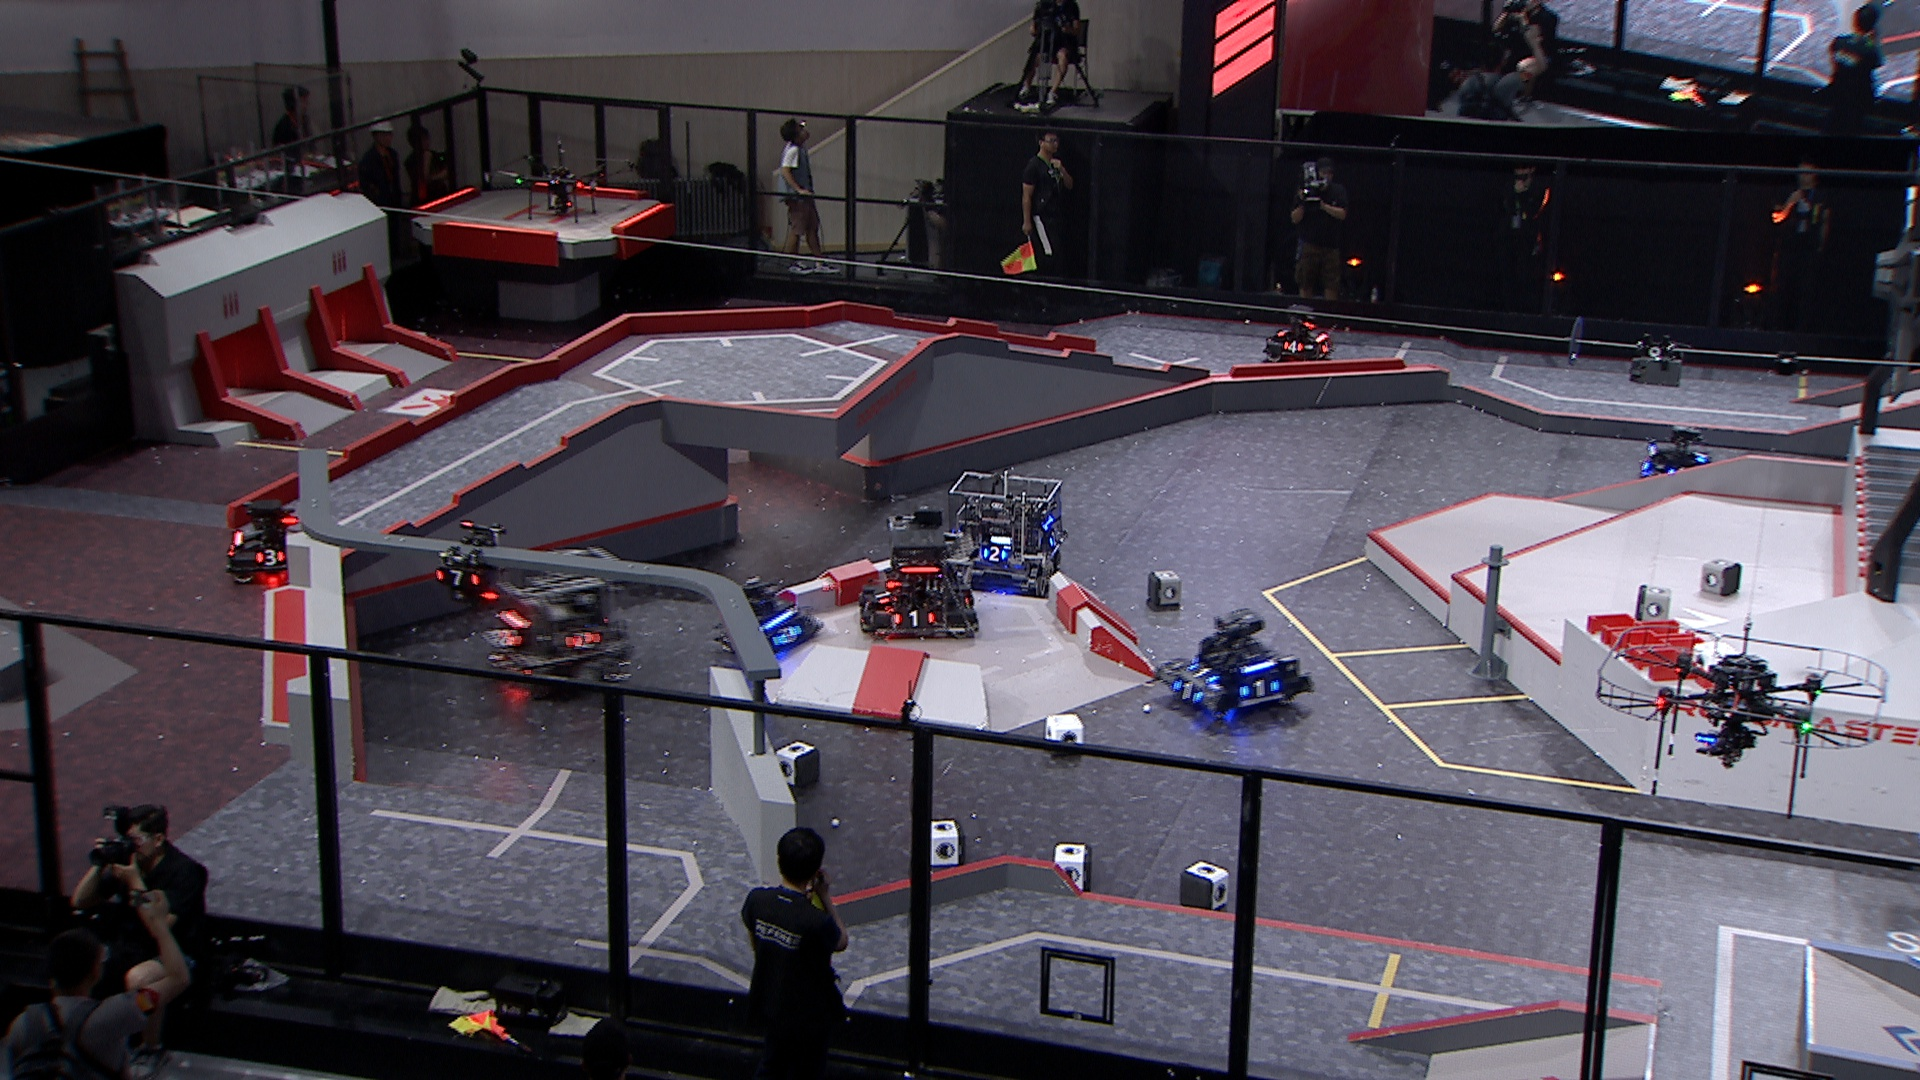armor: (1240, 676, 1280, 699), (438, 568, 477, 589), (894, 612, 936, 629), (1172, 680, 1203, 704), (773, 624, 800, 646), (566, 632, 603, 647), (491, 626, 520, 646), (981, 545, 1007, 564), (255, 549, 285, 566), (1188, 662, 1215, 679), (856, 597, 873, 622), (874, 585, 891, 607), (1280, 338, 1304, 351), (1046, 531, 1062, 550), (1273, 324, 1286, 338), (1693, 448, 1706, 462), (1317, 342, 1332, 352)
car: (477, 541, 636, 692), (1153, 605, 1313, 719), (935, 469, 1065, 603), (851, 508, 982, 638), (709, 570, 818, 659), (220, 495, 319, 580), (1638, 423, 1717, 496), (1257, 306, 1335, 371)
watcher: (429, 522, 514, 611)
